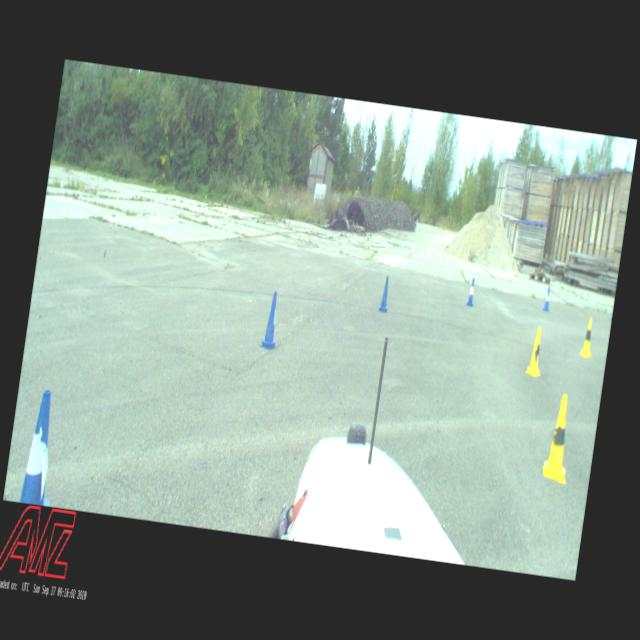blue_cone: (20, 388, 60, 504), (262, 290, 282, 350), (378, 276, 392, 312), (467, 278, 477, 307), (543, 286, 552, 312)
yellow_cone: (542, 394, 576, 482), (527, 326, 546, 376), (580, 318, 596, 358)
